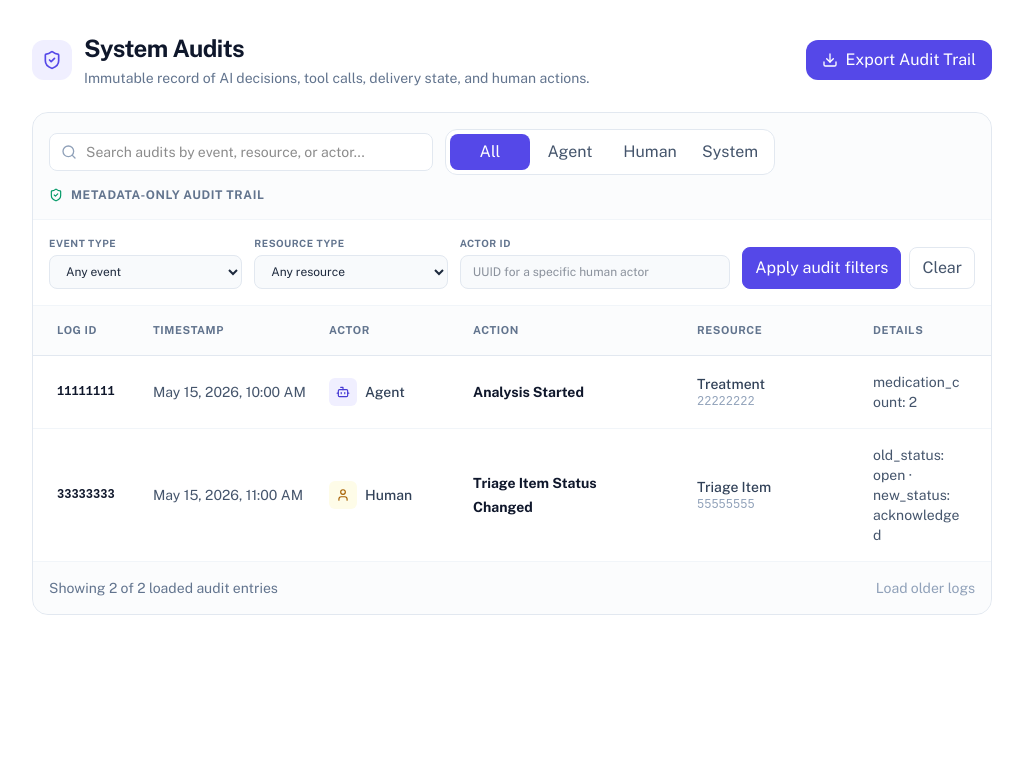
Scenario: SystemAuditsPage › filters loaded audits with the inline actor switch
The image size is (1024, 768).
Expected: the text "Analysis Started" is shown, [473,384,584,400]
Click the button "Human". click: x=650, y=152
box: [610,134,690,170]
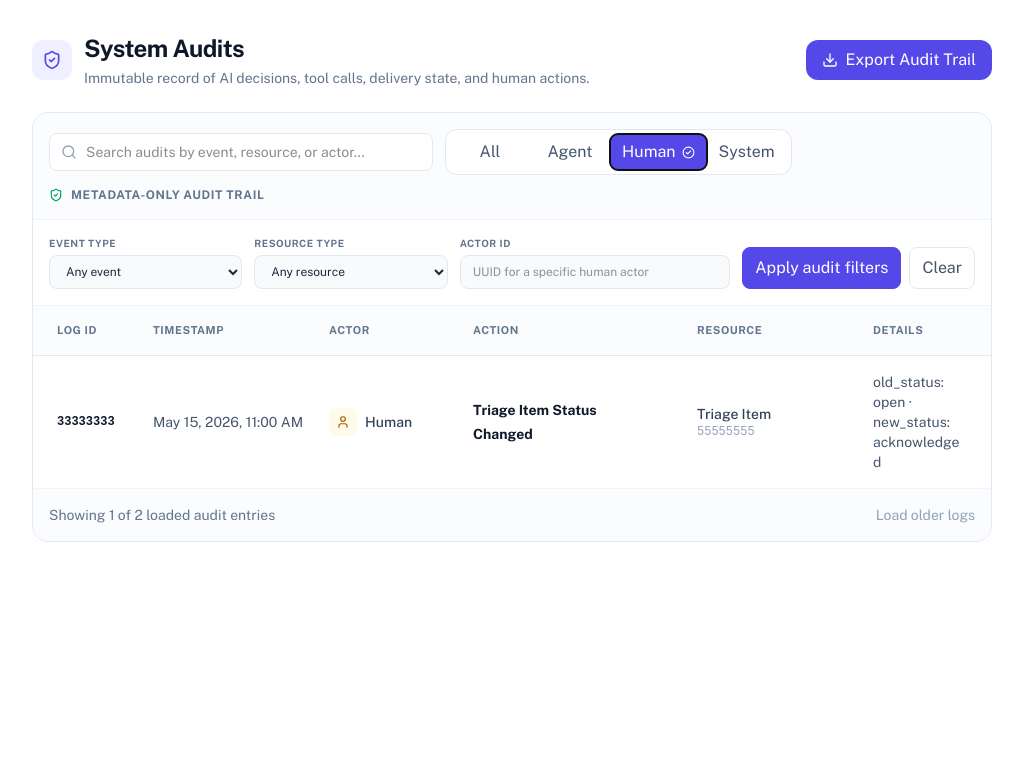
Expected: the text "Triage Item Status Changed" is shown, [473,402,596,442]
Expected: the text "Analysis Started" is gone
